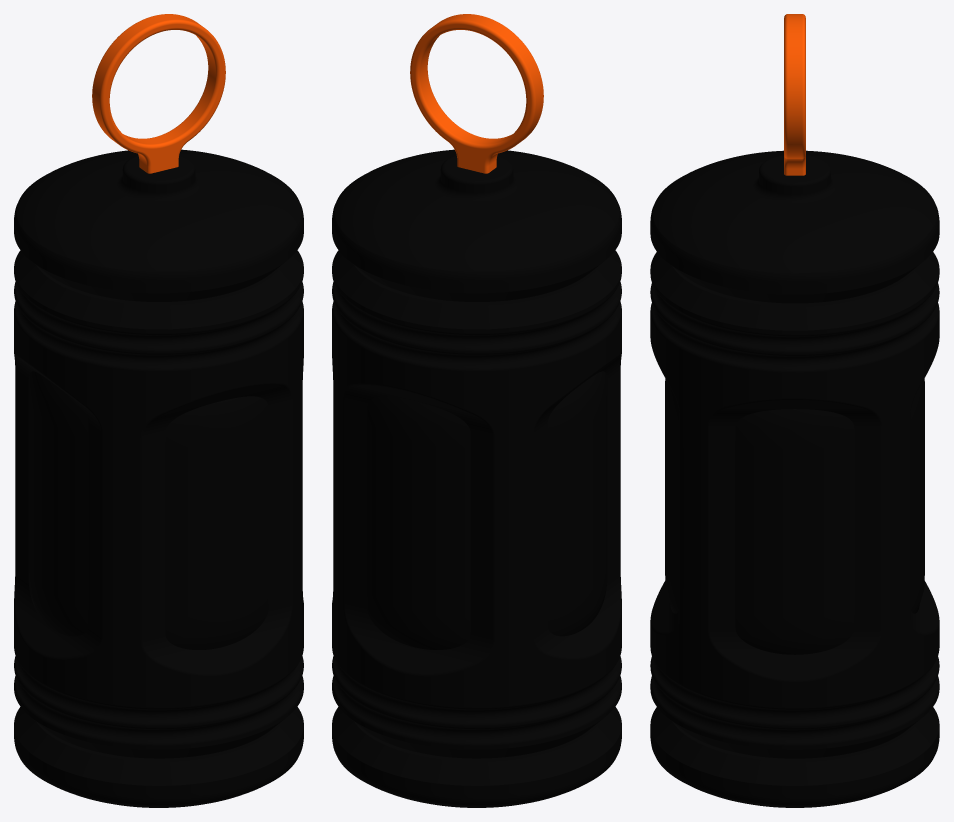
File: charge .fbx
3 views of the same model, side by side, from view 1: azimuth 30°, elevation 25°; view 2: azimuth 150°, elevation 25°; view 3: azimuth 270°, elevation 25° (orthographic).
Visible parts, largest first — view 1: Form; view 2: Form; view 3: Form.
Boxes of the visible parts, bbox=[...] form: Form: bbox=[14, 14, 303, 807]; Form: bbox=[332, 14, 621, 807]; Form: bbox=[650, 14, 939, 807].
Size of the model in its own units: 80 by 80 by 230.
